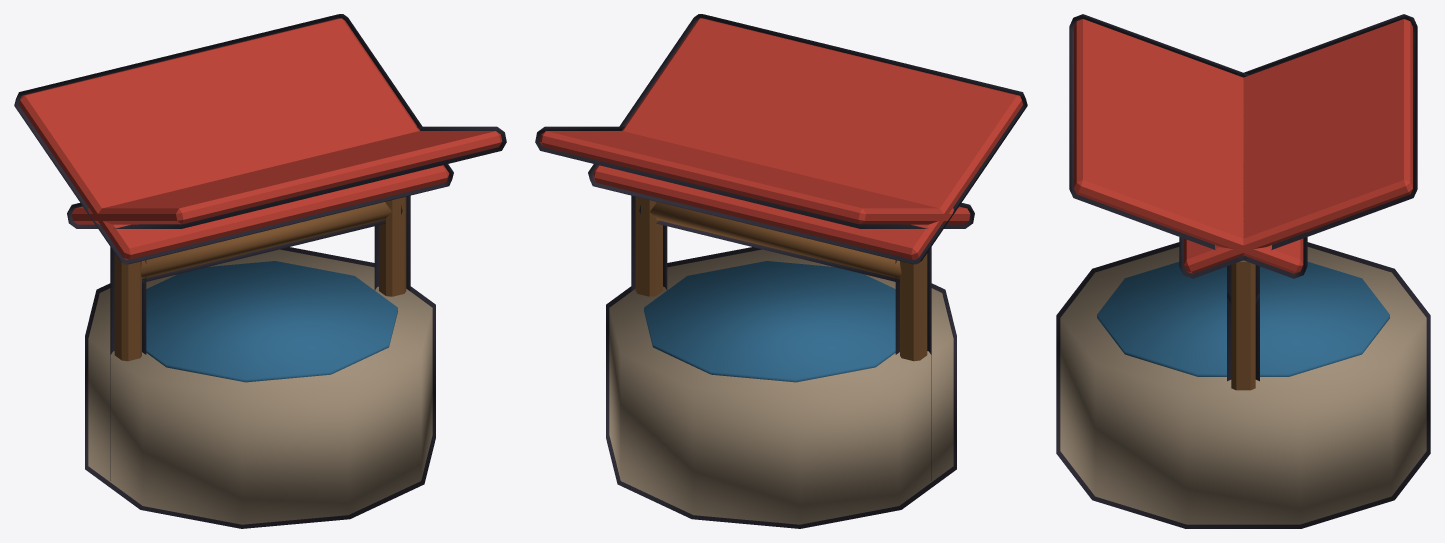
Rendered from well.glb.
3 renders of one model, left to right at view 1: azimuth 30°, elevation 25°; view 2: azimuth 150°, elevation 25°; view 3: azimuth 270°, elevation 25°, orthographic. The views are drawn at different scales.
Visible parts, largest first — view 1: well; view 2: well; view 3: well.
Boxes of the visible parts, x1,y1,x2,y2 form: well: (14, 14, 506, 528); well: (535, 14, 1027, 528); well: (1056, 14, 1430, 528).
Bounding box in the file's own units: 3.27 × 3.25 × 3.06.
